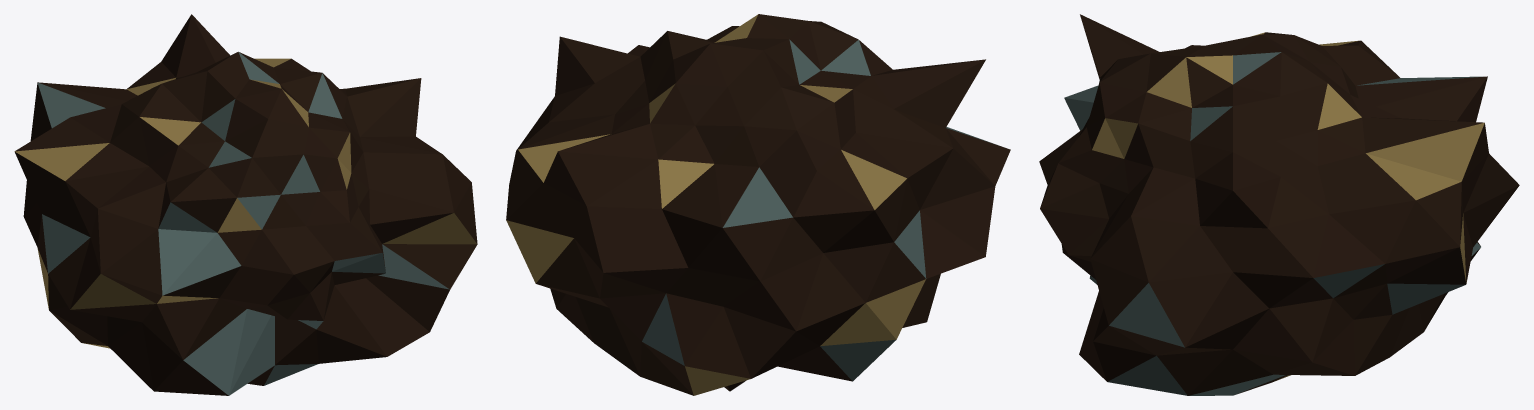
Rendered from SM_MP_Asteroid_Porous.fbx.
3 renders of one model, left to right at view 1: azimuth 30°, elevation 25°; view 2: azimuth 150°, elevation 25°; view 3: azimuth 270°, elevation 25°, orthographic. The views are drawn at different scales.
Visible parts, largest first — view 1: SM_MP_Asteroid_Porous; view 2: SM_MP_Asteroid_Porous; view 3: SM_MP_Asteroid_Porous.
Boxes of the visible parts, <box> form: SM_MP_Asteroid_Porous: <box>14,14,477,395</box>; SM_MP_Asteroid_Porous: <box>506,14,1010,395</box>; SM_MP_Asteroid_Porous: <box>1039,14,1519,395</box>.
Bounding box in the file's own units: 1721 × 1658 × 1278.
Materials: 1 (1 with a texture image).
